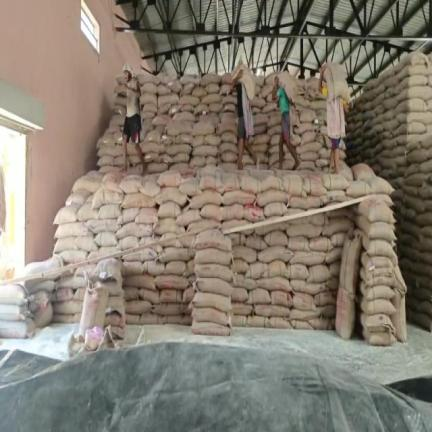Zone-Counting: (319, 63, 350, 173), (232, 65, 259, 169), (272, 72, 299, 169)
